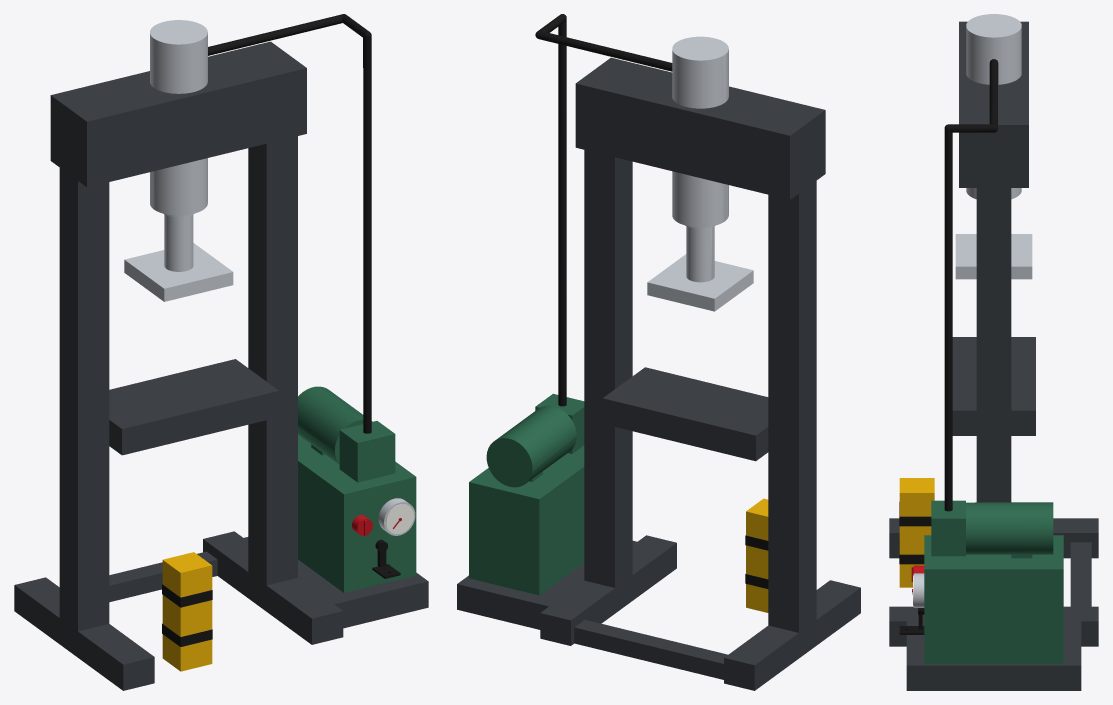
File: Prensa.fbx
3 views of the same model, side by side, from view 1: azimuth 30°, elevation 25°; view 2: azimuth 150°, elevation 25°; view 3: azimuth 270°, elevation 25° (orthographic). The views are drawn at different scales.
Visible parts, largest first — view 1: Frame, PumpUnit, Bed, Cylinder, SafetyBlock, Hose, Ram, GaugeBody; view 2: Frame, PumpUnit, Bed, Cylinder, Hose, Ram, SafetyBlock; view 3: Frame, PumpUnit, Bed, Hose, Cylinder, SafetyBlock, Ram, GaugeBody.
Part boxes in pixels (x1,y1,x2,y2): Frame: (14,41,428,690); PumpUnit: (298,386,416,592); Bed: (109,359,279,455); Cylinder: (150,20,207,217); SafetyBlock: (162,552,212,671); Hose: (208,14,371,433); Ram: (124,214,233,301); GaugeBody: (378,498,415,535); Frame: (457,57,860,690); PumpUnit: (469,393,584,595); Bed: (602,367,768,461); Cylinder: (672,36,728,229); Hose: (535,14,672,406); Ram: (647,226,753,311); SafetyBlock: (745,498,768,612); Frame: (889,21,1098,690); PumpUnit: (899,500,1063,664); Bed: (952,337,1035,435); Hose: (944,59,998,511); Cylinder: (966,14,1021,199); SafetyBlock: (899,478,934,587); Ram: (955,234,1032,279); GaugeBody: (913,573,924,607).
Size of the model in its own units: 1 by 1.8 by 0.6.
